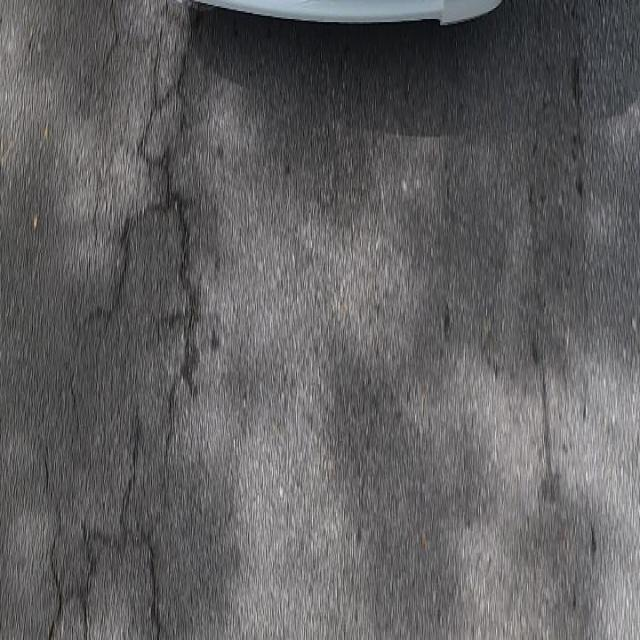cracks: (13, 6, 261, 640), (500, 102, 594, 518)
